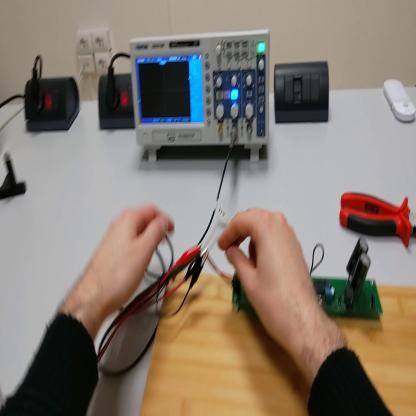hand: (220, 207, 319, 348), (86, 203, 174, 317)
high voltage board: (208, 231, 386, 321)
oscilloscope: (130, 28, 271, 165)
oscilloscope probe tip: (139, 262, 196, 315)
socket: (23, 74, 81, 136), (96, 73, 137, 133)
working area: (141, 270, 416, 414)
